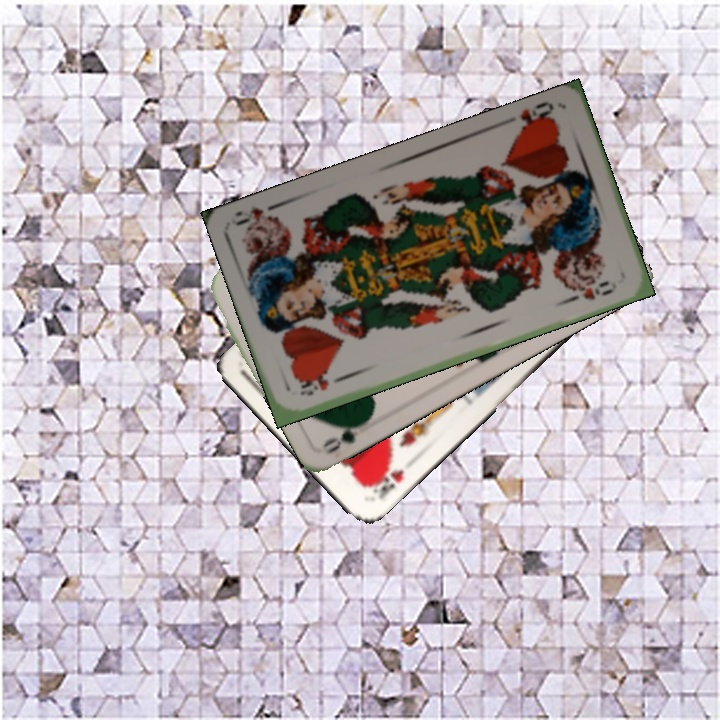GO: (319, 411, 372, 456)
HK: (365, 464, 407, 502)
HO: (510, 97, 558, 138), (296, 371, 349, 399)
